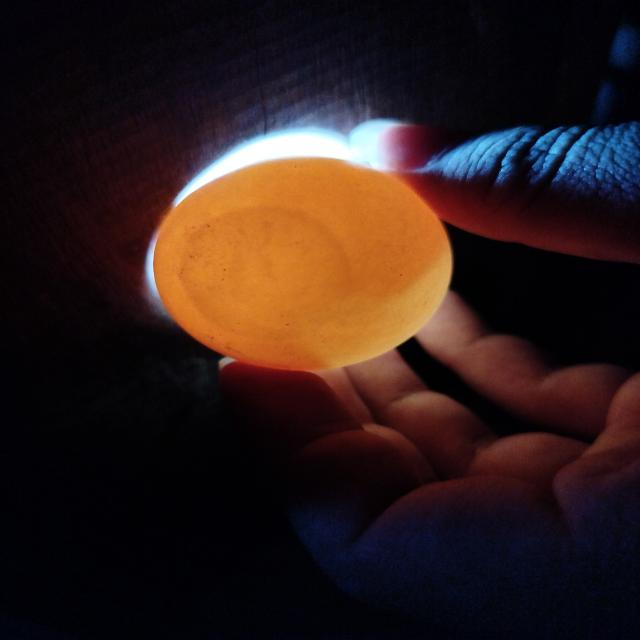Camara de Ar: (182, 213, 350, 338)
